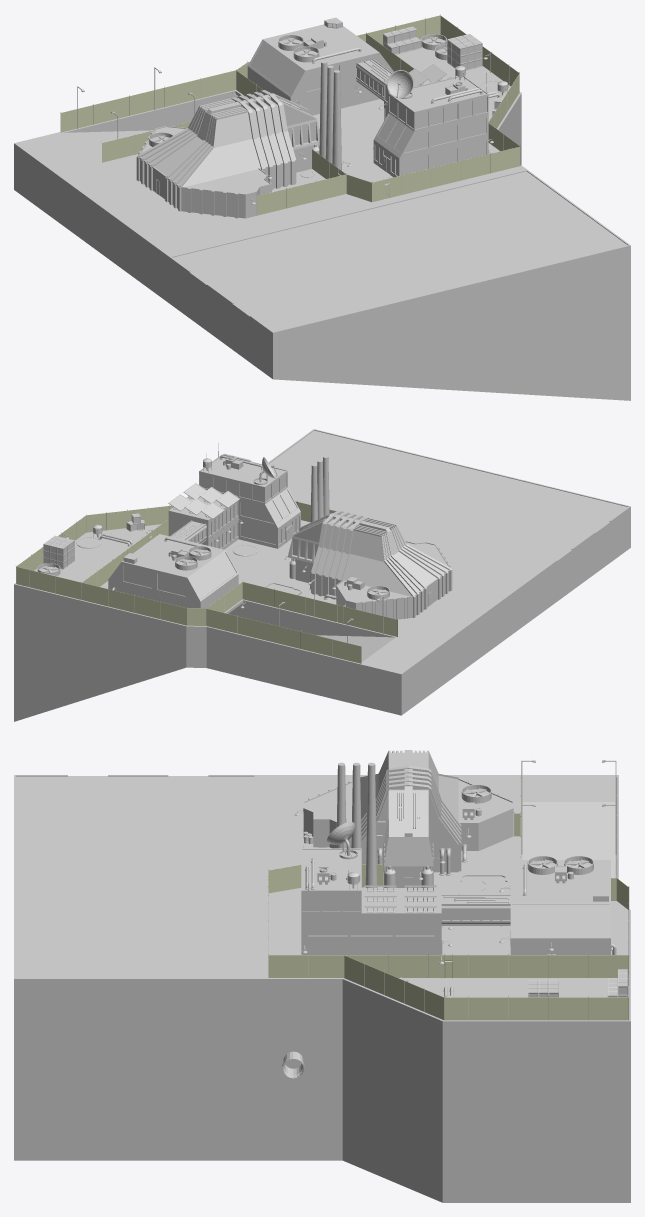
Rendered from factory.fbx.
The picture shows the model from 3 angles, top to bottom: view 1: azimuth 30°, elevation 25°; view 2: azimuth 150°, elevation 25°; view 3: azimuth 270°, elevation 25°; orthographic projection. The views are drawn at different scales.
Parts seen in each view (by area): view 1: Object38, Plane03, Box01, Box13, Box12, Box11, Box06, Cone03, Box14, Sphere01, Box08; view 2: Object38, Plane03, Box01, Box13, Box12, Box11, Box06, Cone03, Box14; view 3: Object38, Plane03, Box01, Box13, Box12, Cone03, Box06, Box14, Box04, Box02.
Boxes of the visible parts, x1,y1,x2,y2 form: Object38: [14, 40, 630, 400]; Plane03: [61, 15, 520, 215]; Box01: [139, 92, 319, 218]; Box13: [373, 71, 488, 177]; Box12: [247, 24, 393, 115]; Box11: [136, 98, 248, 211]; Box06: [231, 90, 295, 189]; Cone03: [319, 60, 341, 175]; Box14: [356, 59, 392, 100]; Sphere01: [387, 70, 413, 98]; Box08: [187, 188, 238, 218]; Object38: [14, 429, 630, 721]; Plane03: [16, 501, 397, 663]; Box01: [287, 512, 449, 619]; Box13: [168, 454, 300, 549]; Box12: [108, 534, 238, 608]; Box11: [353, 518, 452, 617]; Box06: [311, 510, 368, 599]; Cone03: [310, 455, 329, 522]; Box14: [170, 520, 206, 543]; Object38: [14, 775, 630, 1202]; Plane03: [268, 813, 628, 1020]; Box01: [303, 752, 513, 887]; Box13: [301, 848, 441, 954]; Box12: [510, 860, 610, 954]; Cone03: [336, 762, 377, 887]; Box06: [361, 766, 461, 871]; Box14: [441, 894, 510, 925]; Box04: [458, 874, 508, 894]; Box02: [404, 750, 412, 836].
Bounding box in the file's own units: 29.1 × 17 × 30.8.
